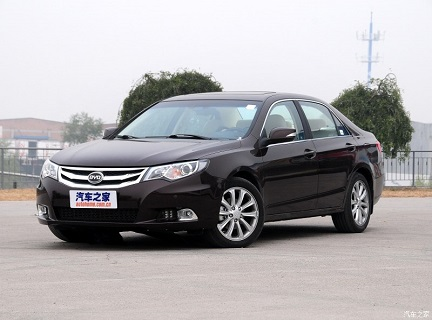比亚迪-思锐: (28, 87, 391, 247)
